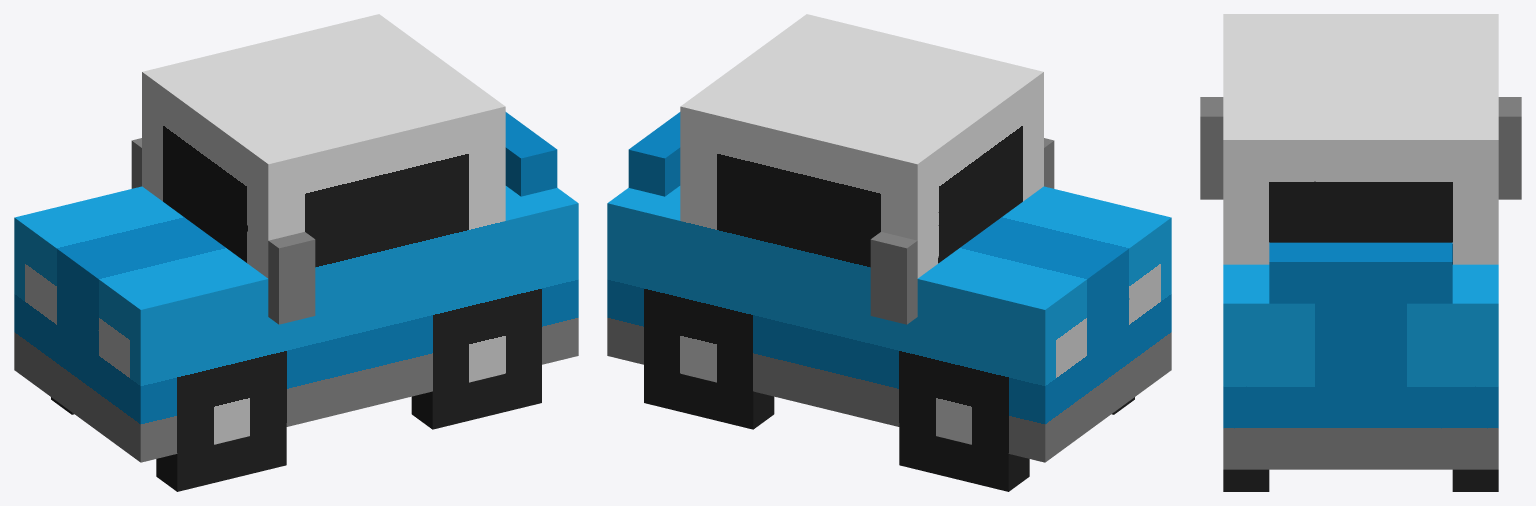
The model's file is veh_car_blue.dae.
3 views of the same model, side by side, from view 1: azimuth 30°, elevation 25°; view 2: azimuth 150°, elevation 25°; view 3: azimuth 270°, elevation 25° (orthographic). The views are drawn at different scales.
Parts seen in each view (by area): view 1: veh_car_blue; view 2: veh_car_blue; view 3: veh_car_blue.
Part boxes in pixels (box(x1,y1,x2,y2)): veh_car_blue: box(14, 14, 578, 491); veh_car_blue: box(607, 14, 1171, 491); veh_car_blue: box(1200, 14, 1521, 491).
Size of the model in its own units: 2.4 by 1.6 by 1.4.
